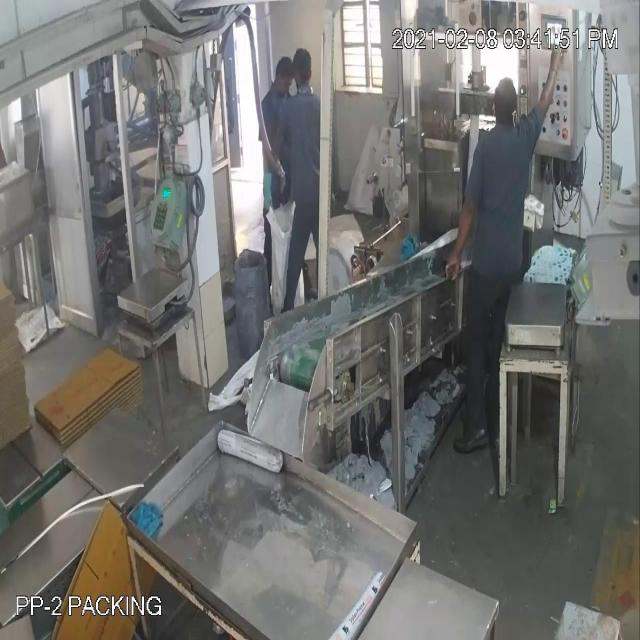No_Gloves: (30, 79, 554, 238)
